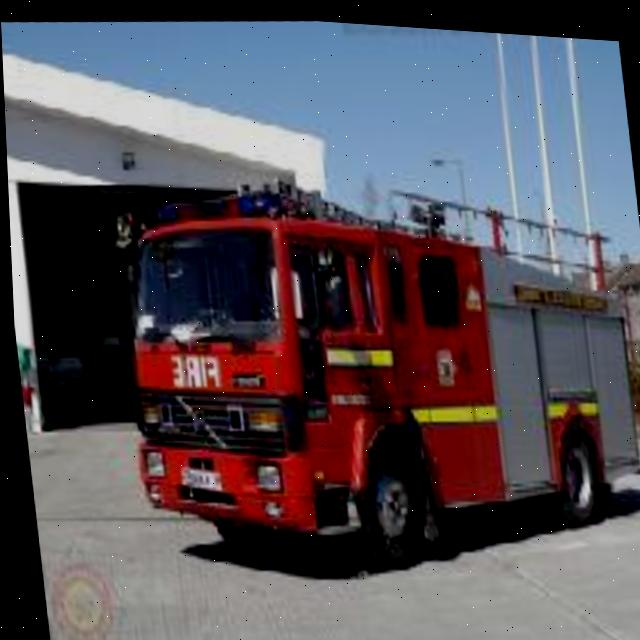emergency: (91, 175, 640, 601)
